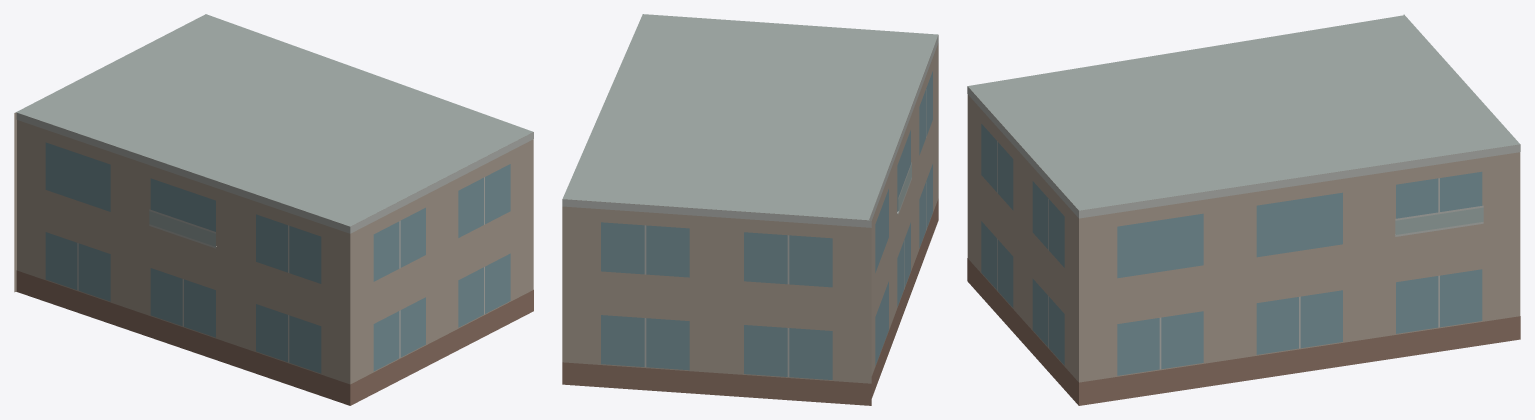
Rendered from survey-upis-32953000.glb.
3 renders of one model, left to right at view 1: azimuth 30°, elevation 25°; view 2: azimuth 150°, elevation 25°; view 3: azimuth 270°, elevation 25°, orthographic. The views are drawn at different scales.
Visible parts, largest first — view 1: survey-upis-32953000.tmp; view 2: survey-upis-32953000.tmp; view 3: survey-upis-32953000.tmp.
Boxes of the visible parts, x1=… form: survey-upis-32953000.tmp: x1=14, y1=14, x2=533, y2=405; survey-upis-32953000.tmp: x1=562, y1=14, x2=938, y2=405; survey-upis-32953000.tmp: x1=967, y1=14, x2=1520, y2=405.
Bounding box in the file's own units: 13.2 × 6.1 × 15.68.
